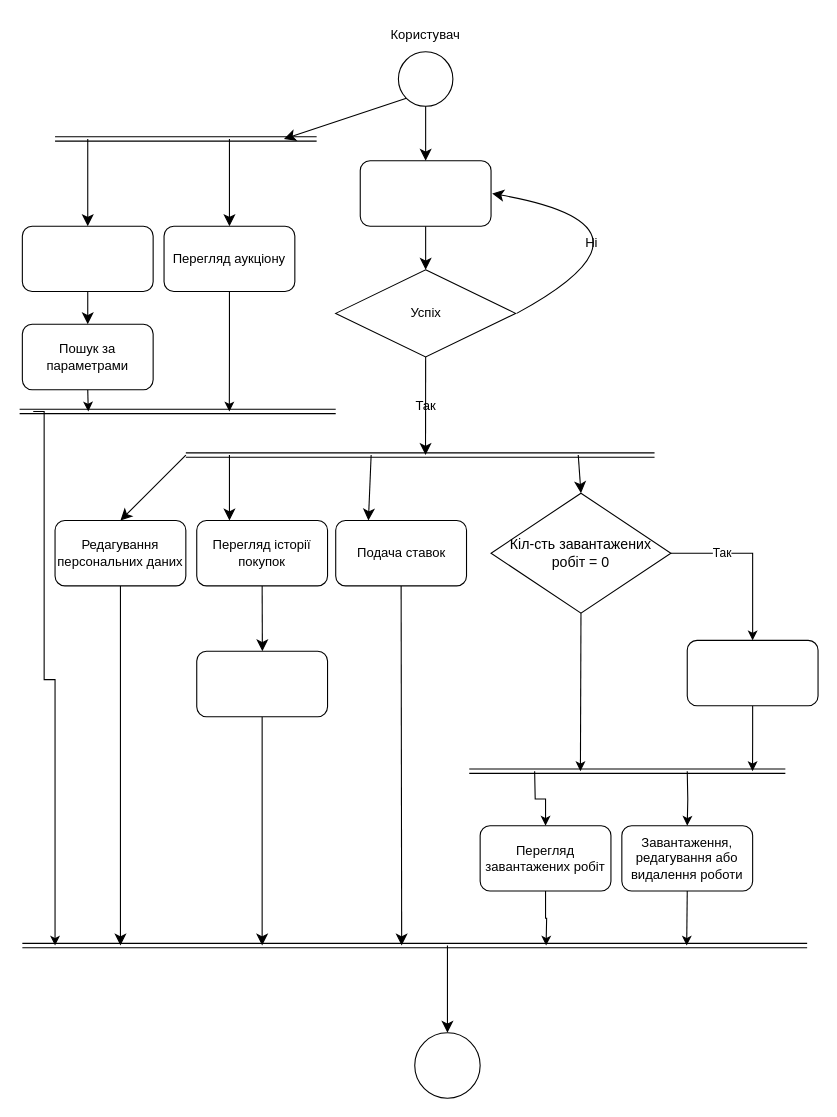
Image size: 837x1117. Some labels were removed from this diagram. Here are the shapes that lost their labels. From the top down, the centre of each, then its label:
At point 425,193: "Авторизація".
At point 87,258: "Перегляд виставок".
At point 262,683: "Оплата виграного лота".
At point 752,672: "Завантаження робіт".
